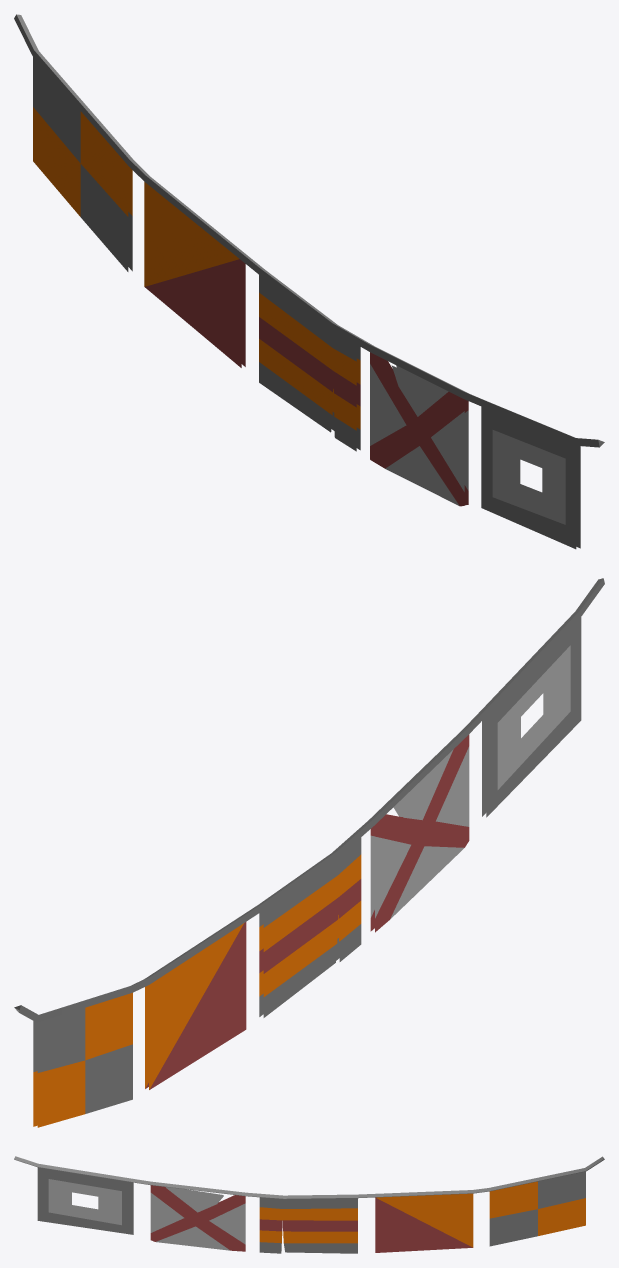
The model's file is prop_10.FBX.
The picture shows the model from 3 angles, top to bottom: view 1: azimuth 30°, elevation 25°; view 2: azimuth 150°, elevation 25°; view 3: azimuth 270°, elevation 25°; orthographic projection. The views are drawn at different scales.
Parts seen in each view (by area): view 1: prop_10; view 2: prop_10; view 3: prop_10.
Boxes of the visible parts, x1=… form: prop_10: x1=14, y1=14, x2=604, y2=549; prop_10: x1=14, y1=578, x2=604, y2=1127; prop_10: x1=14, y1=1156, x2=604, y2=1253.
Bounding box in the file's own units: 0.75 × 22.8 × 126.
